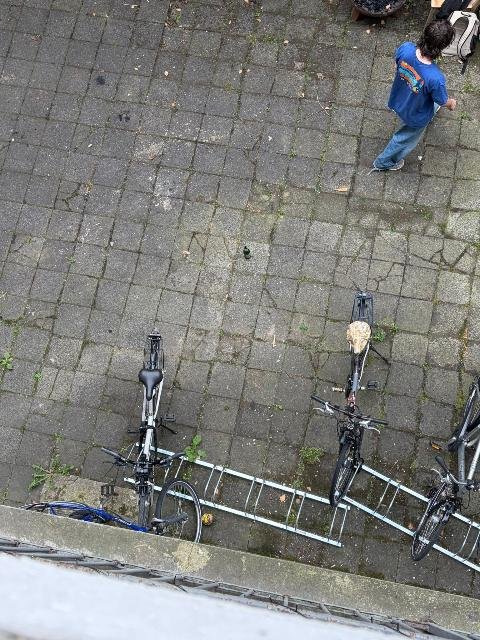glass_bottle: (243, 247, 251, 260)
